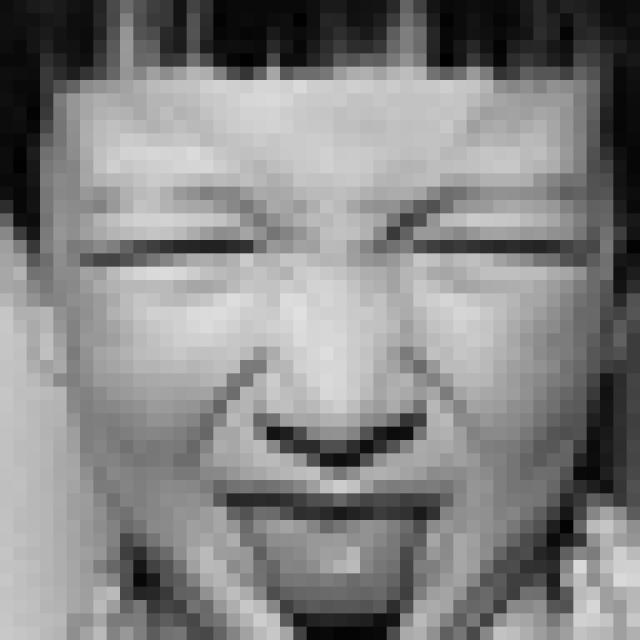disgust: (84, 182, 587, 640)
